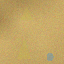person: (46, 52, 53, 61)
structure: (17, 37, 31, 58), (20, 5, 33, 19)
